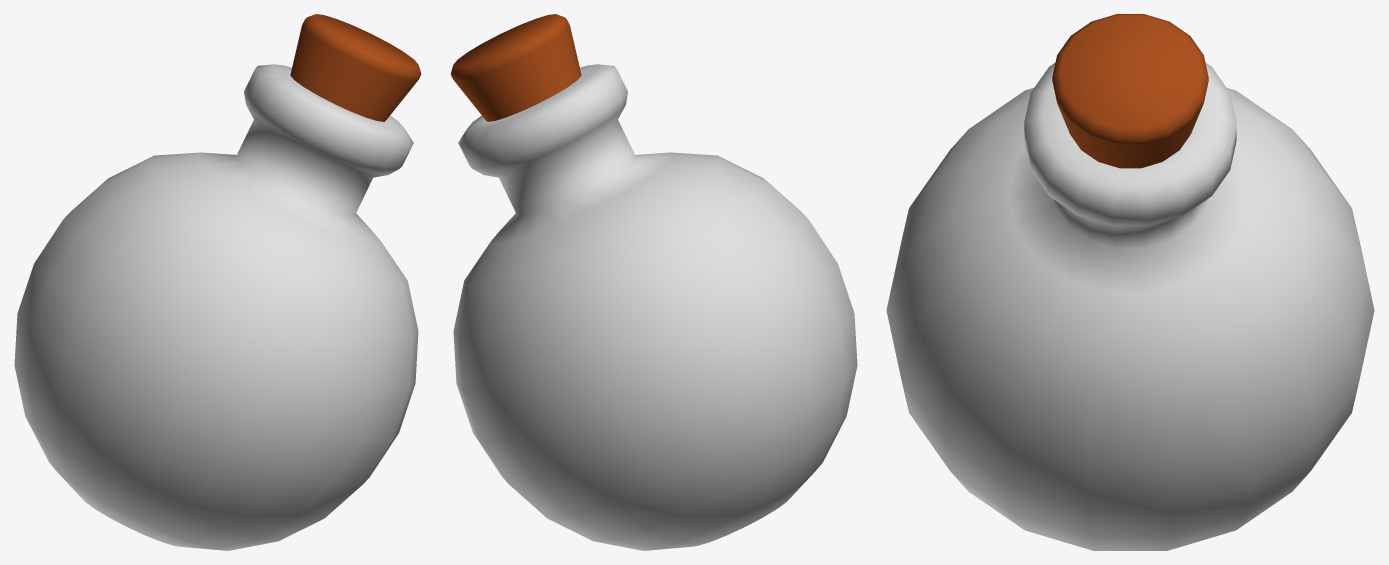
Rendered from item_potion.fbx.
3 renders of one model, left to right at view 1: azimuth 30°, elevation 25°; view 2: azimuth 150°, elevation 25°; view 3: azimuth 270°, elevation 25°, orthographic. The views are drawn at different scales.
Parts seen in each view (by area): view 1: Sphere.001, Sphere; view 2: Sphere.001, Sphere; view 3: Sphere.001, Sphere.
Boxes of the visible parts, x1,y1,x2,y2 form: Sphere.001: (14, 64, 418, 550); Sphere: (290, 14, 421, 121); Sphere.001: (453, 64, 857, 550); Sphere: (450, 14, 581, 121); Sphere.001: (886, 63, 1374, 550); Sphere: (1052, 14, 1208, 168).
Size of the model in its own units: 210 by 261 by 200.
